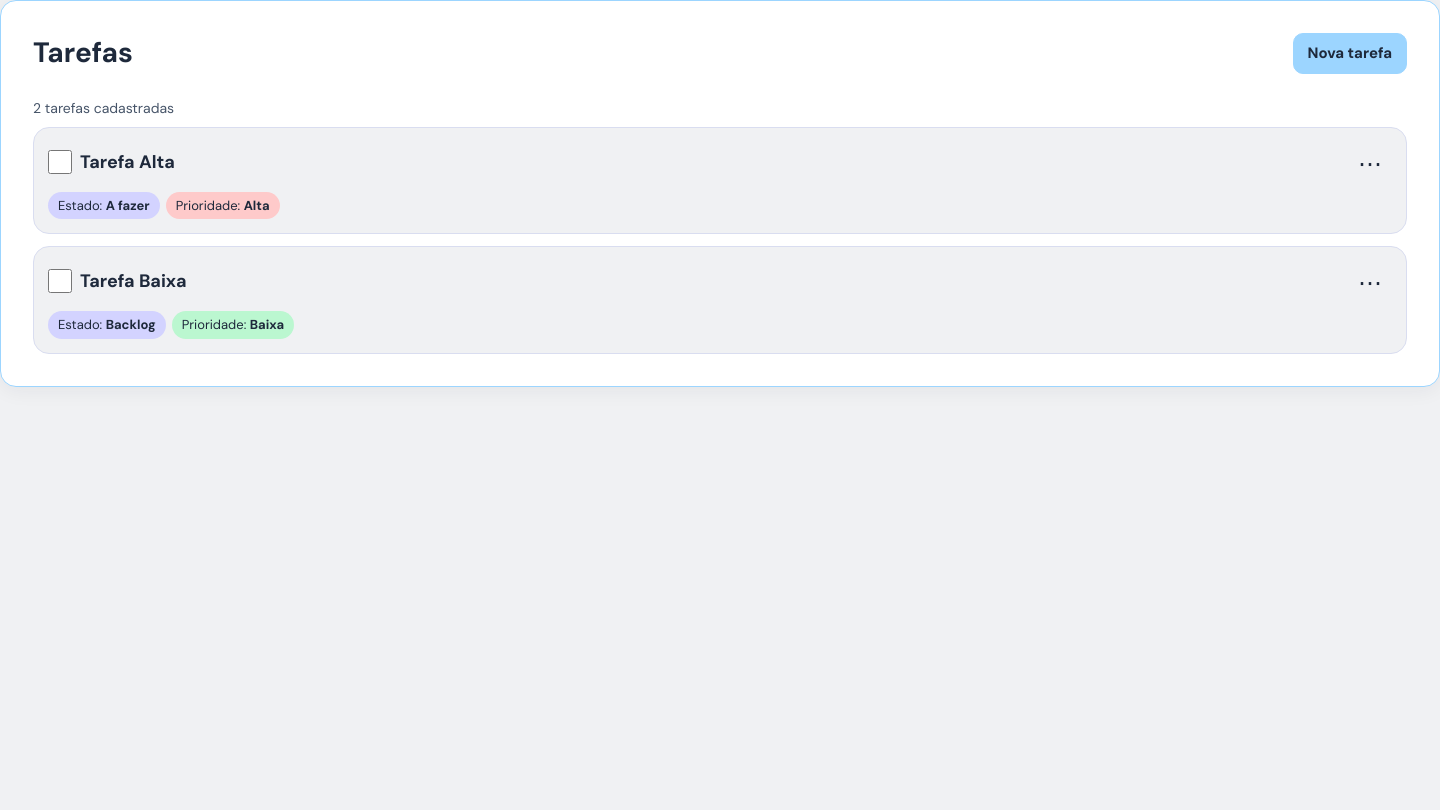
Test: PainelTarefas › UC13: edita e reordena automaticamente as tarefas
This screenshot has width=1440, height=810.
Check: the heading "Tarefa Alta" is shown, box [80,142,175,173]
Check: the heading "Tarefa Baixa" is shown, box [80,261,186,293]
Click the button "⋯" in the row of "Tarefa Baixa" at (1370, 283), box [1348,261,1392,305]
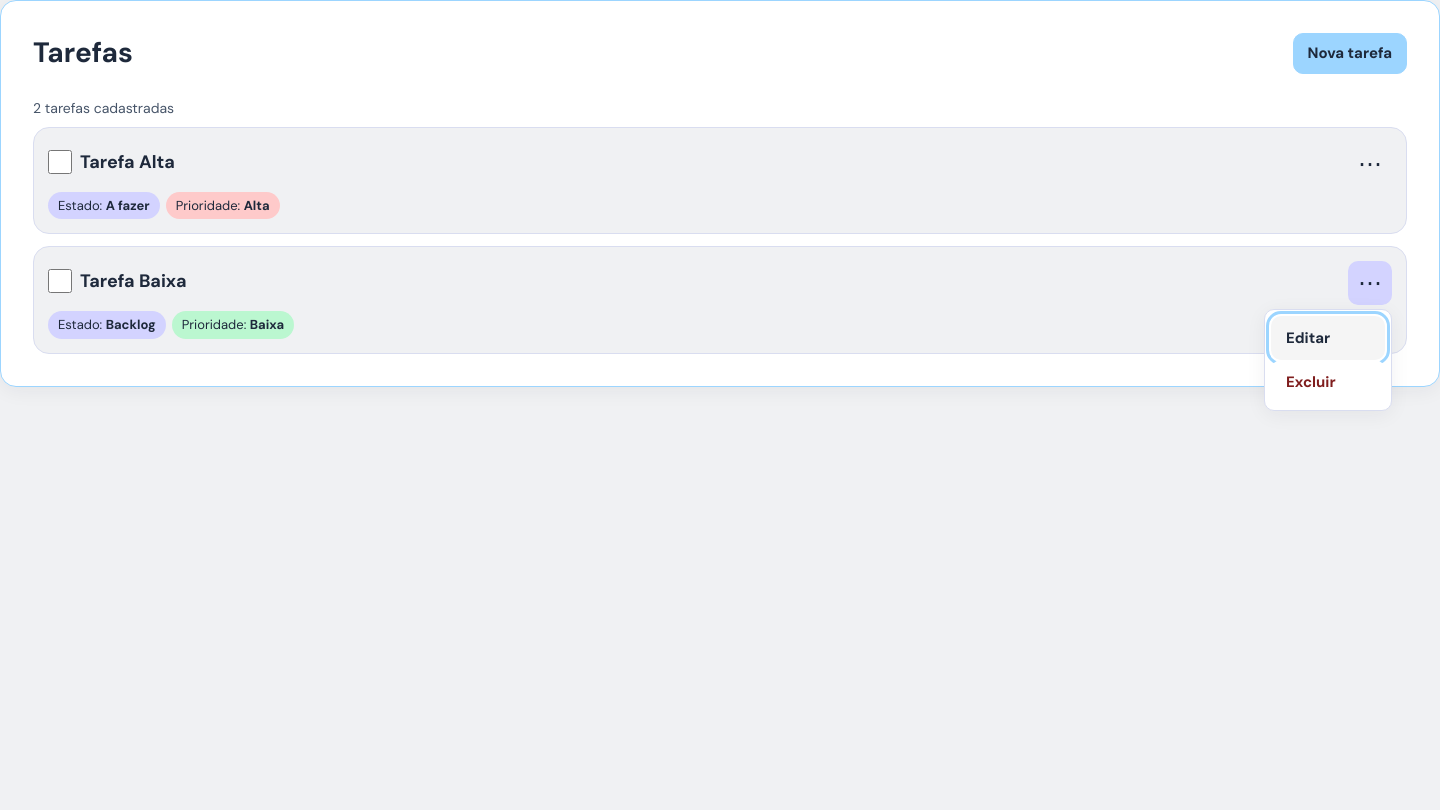
Click the menu item "Editar" at (1328, 338), box [1271,316,1385,360]
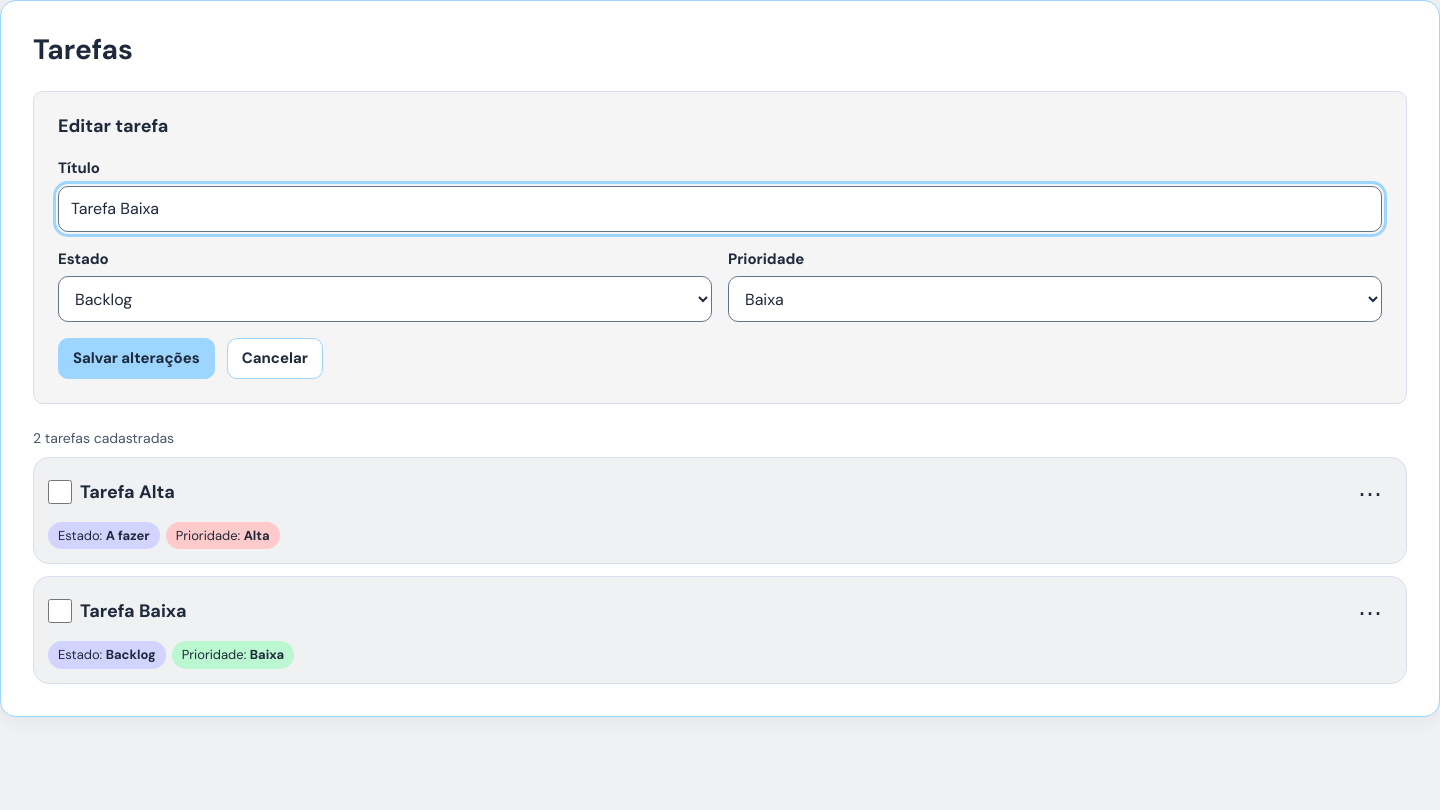
Check: the field labelled "Título" holds "Tarefa Baixa"
Replace the text in the field labelled "Título" with "Tarefa Baixa Editada" at (720, 209), box [58,186,1382,232]
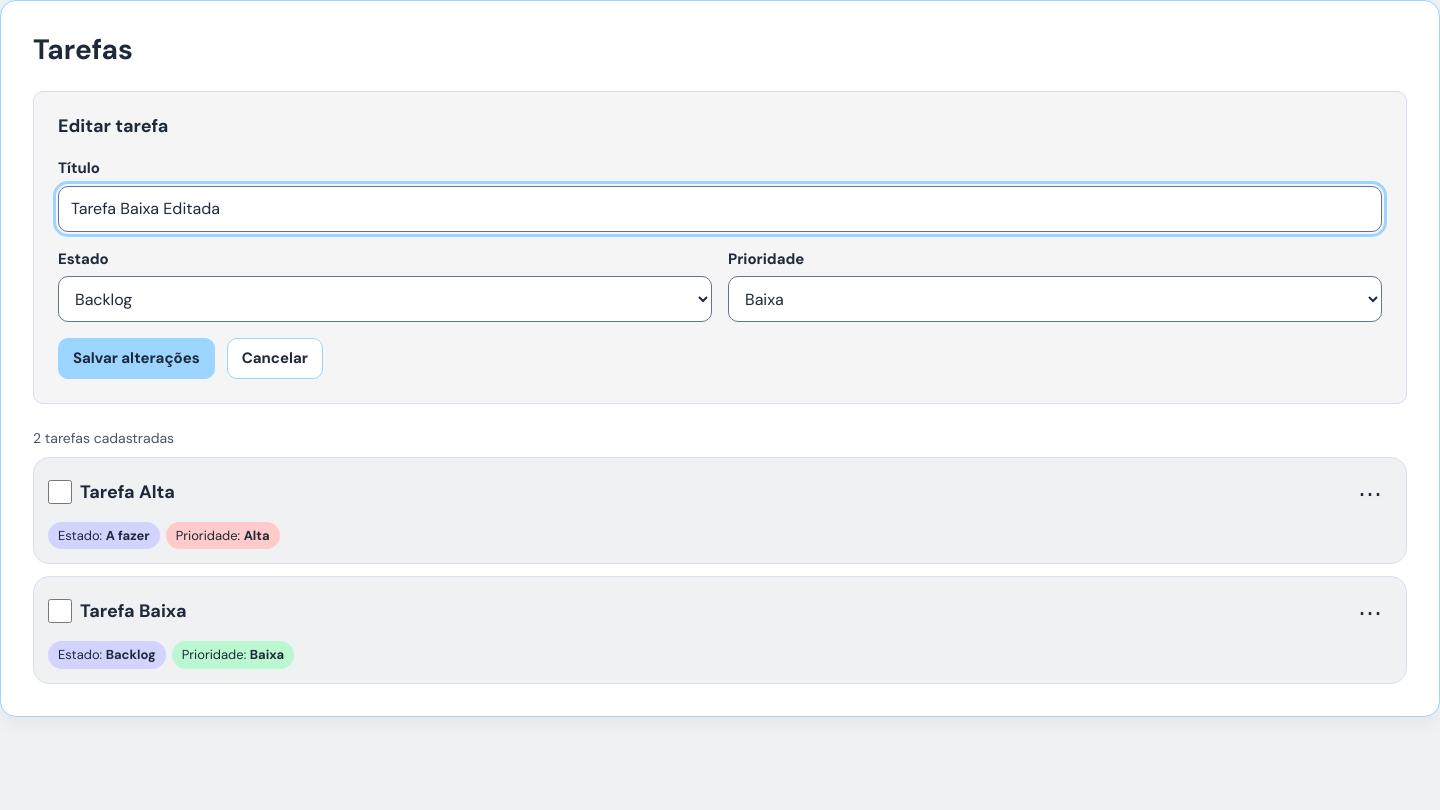
Select "Alta" in the dropdown labelled "Prioridade" at (1055, 299), box [728,276,1382,322]
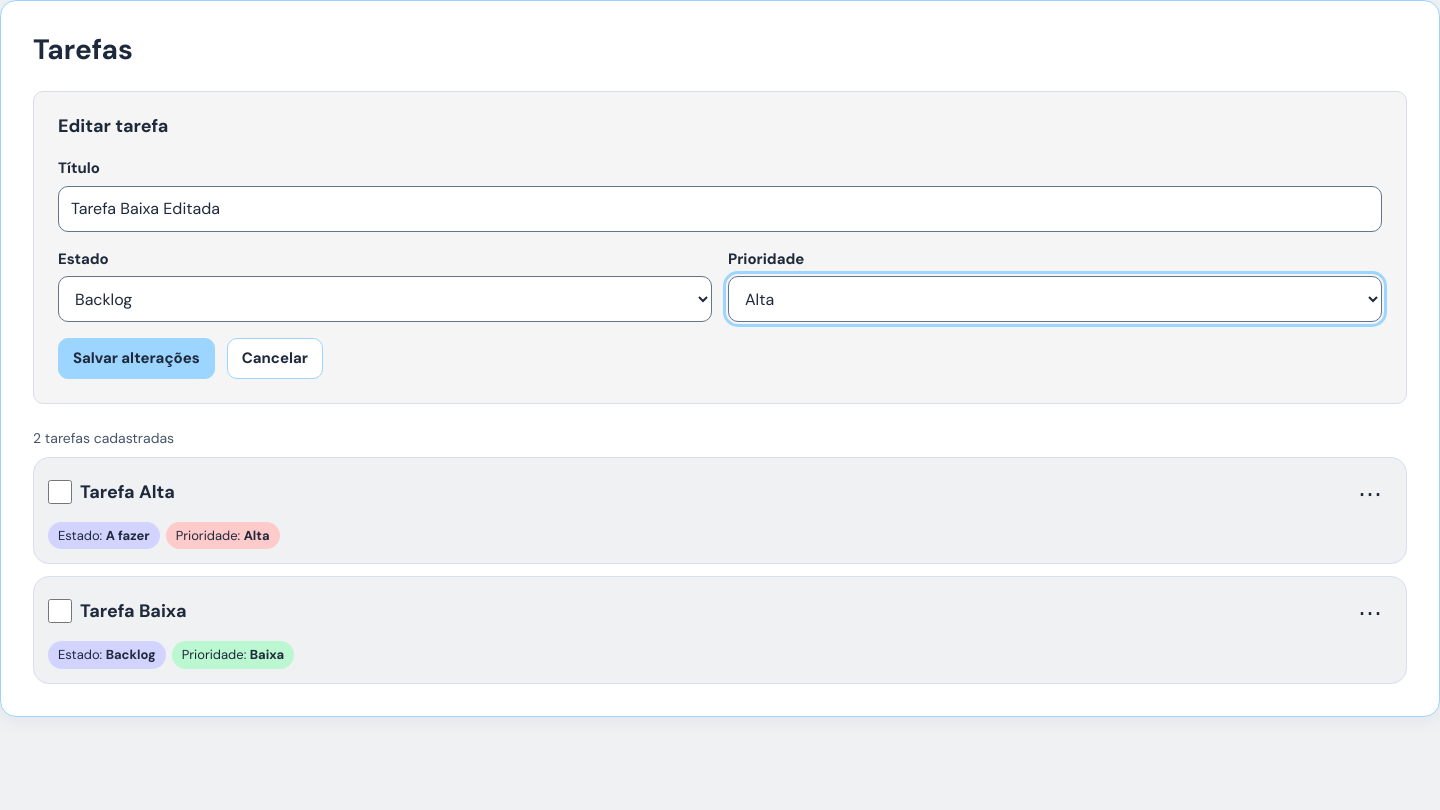
Select "A fazer" in the dropdown labelled "Estado" at (385, 299), box [58,276,712,322]
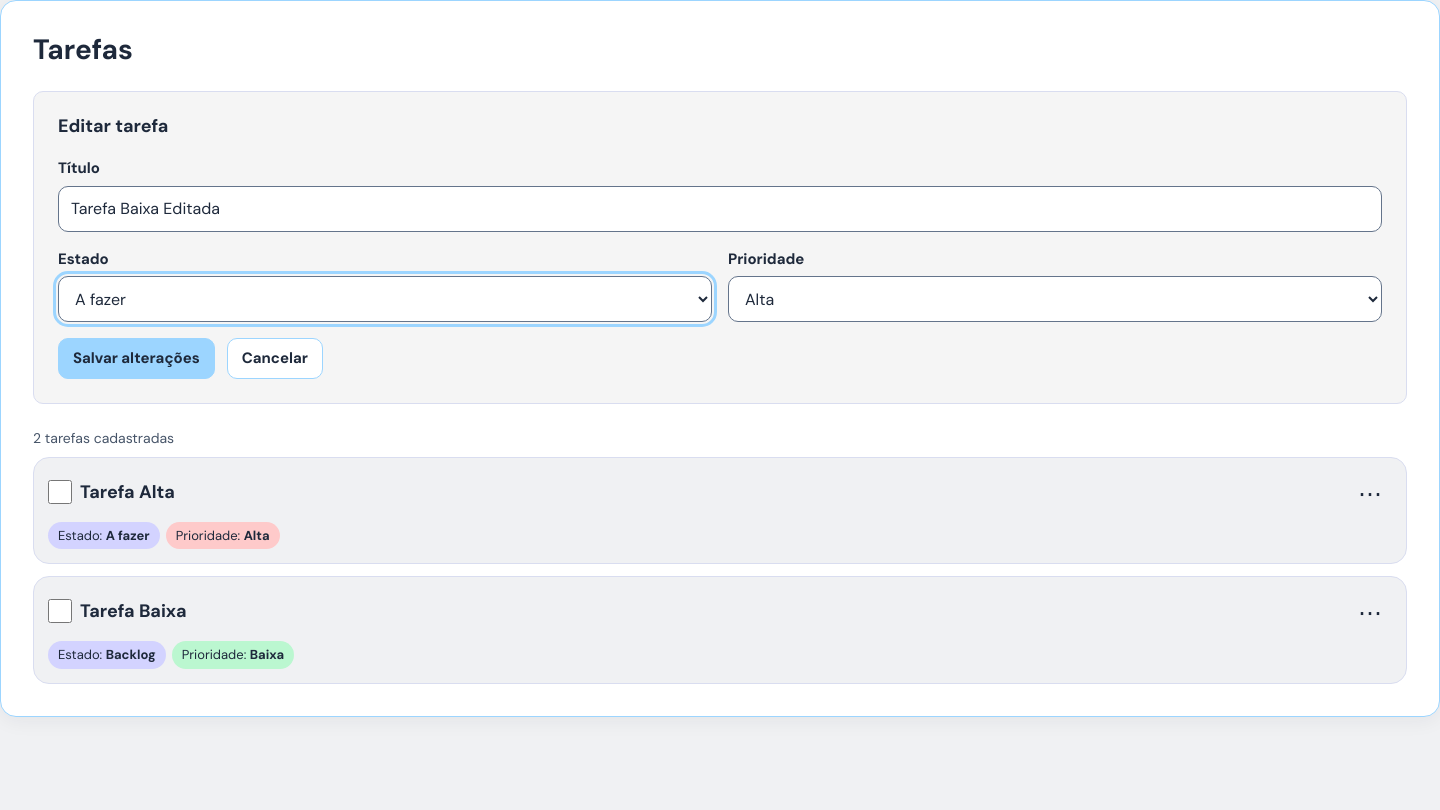
Click the button "Salvar alterações" at (136, 358), box [58,338,215,379]
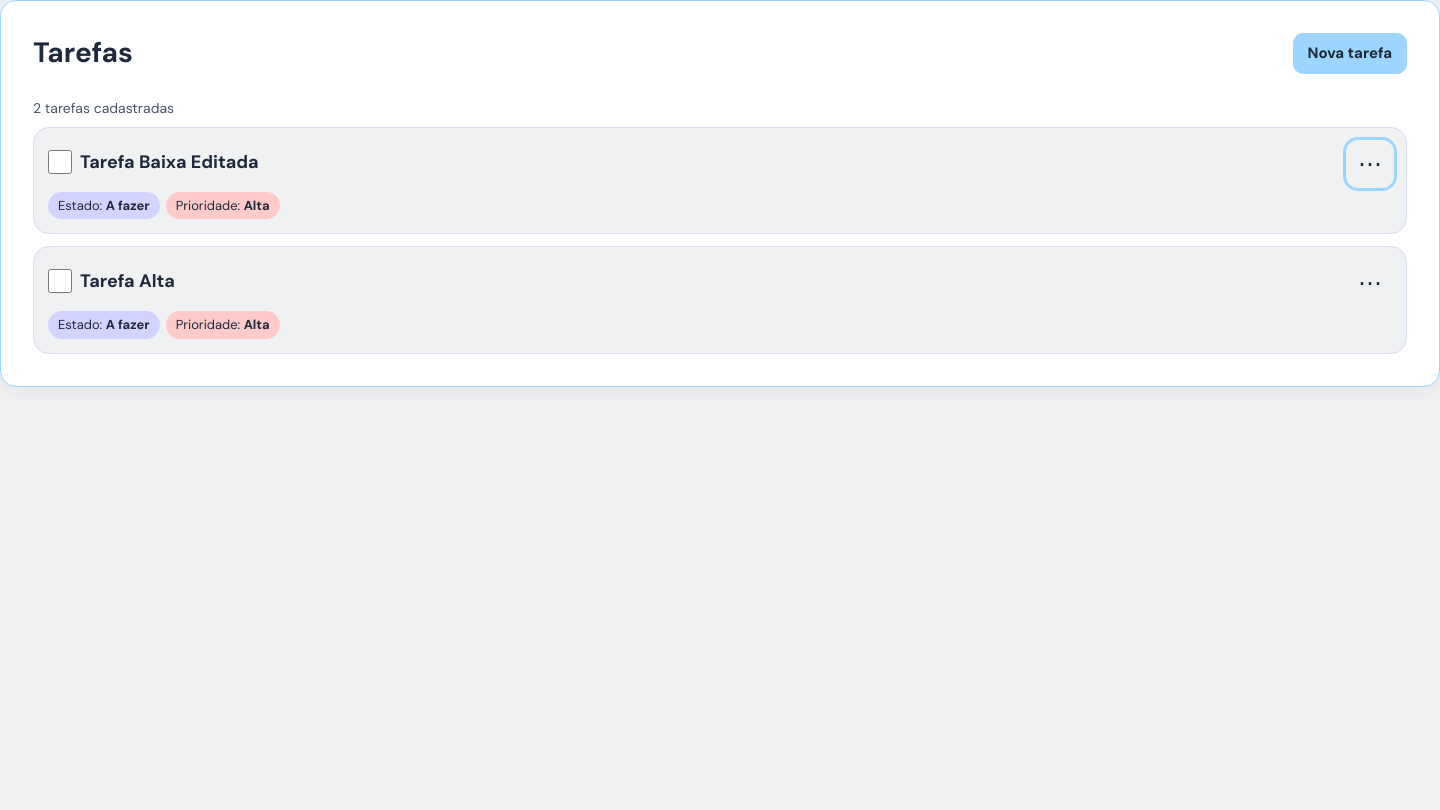
Check: the heading "Tarefa Alta" is shown, box [80,261,175,293]
Check: the heading "Tarefa Baixa Editada" is shown, box [80,142,259,173]
